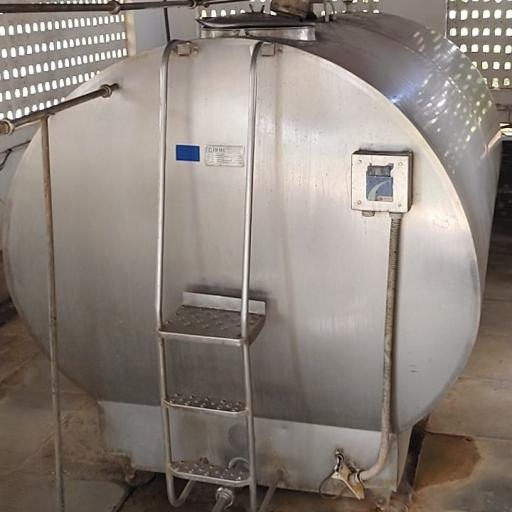silo: (4, 8, 504, 500)
